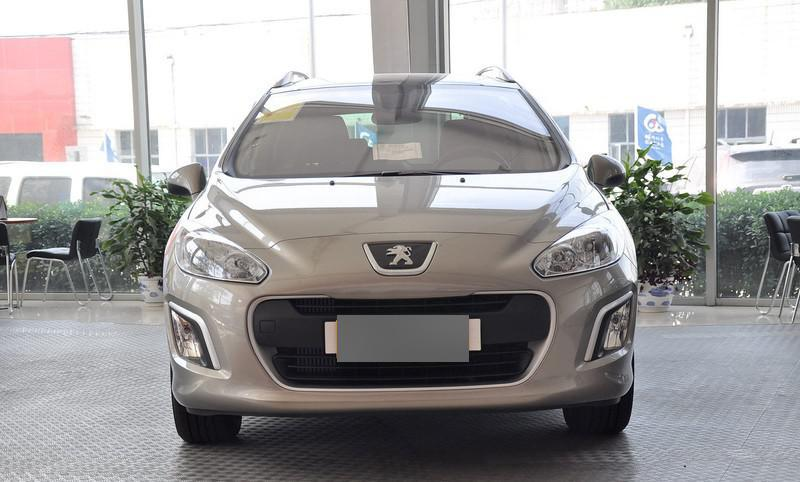Wagon: (161, 63, 639, 444)
